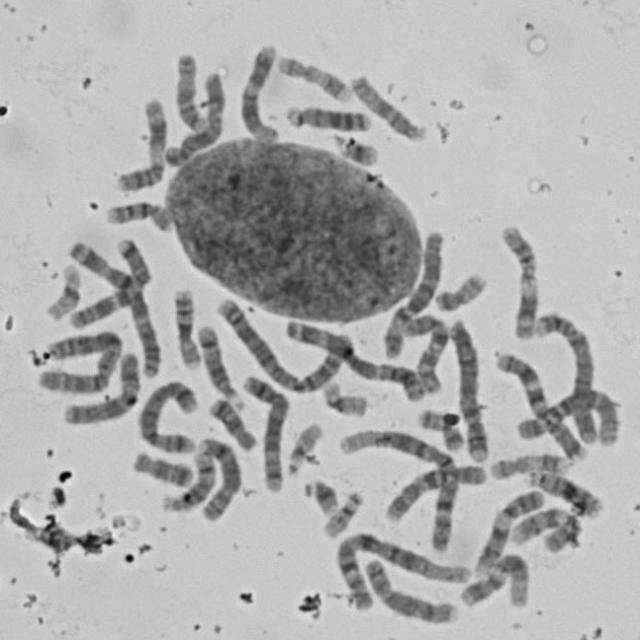A1: (334, 422, 460, 552), (330, 524, 470, 612)
A2: (212, 291, 354, 397), (32, 322, 126, 396)
A3: (62, 236, 165, 382), (279, 313, 428, 404)
B4: (530, 304, 600, 450), (445, 312, 492, 463)
B5: (236, 369, 291, 494), (134, 374, 201, 456)
C10: (380, 458, 490, 524), (398, 308, 450, 396)
C11: (111, 91, 171, 195), (496, 218, 543, 342)
C12: (234, 39, 282, 144), (455, 548, 534, 610)
C6: (377, 225, 447, 360), (512, 382, 624, 448)
C7: (492, 347, 590, 463), (62, 231, 154, 333)
C8: (359, 553, 462, 627), (193, 431, 244, 523)
C9: (469, 483, 548, 577), (506, 501, 586, 554)
D13: (522, 464, 604, 518), (282, 99, 374, 134)
D14: (194, 319, 245, 410), (156, 445, 219, 514)
D15: (346, 68, 431, 144), (170, 48, 209, 134)
E16: (168, 282, 205, 371), (102, 195, 175, 233)
E17: (273, 49, 354, 104), (486, 446, 572, 482)
E18: (204, 392, 260, 452), (127, 446, 196, 490)
F19: (41, 258, 84, 322), (318, 375, 371, 418)
F20: (429, 266, 491, 313), (412, 404, 467, 453)
G21: (330, 129, 382, 168), (300, 473, 342, 517)
G22: (283, 417, 325, 476), (319, 487, 365, 538)
X: (57, 347, 142, 427), (161, 68, 229, 168)
